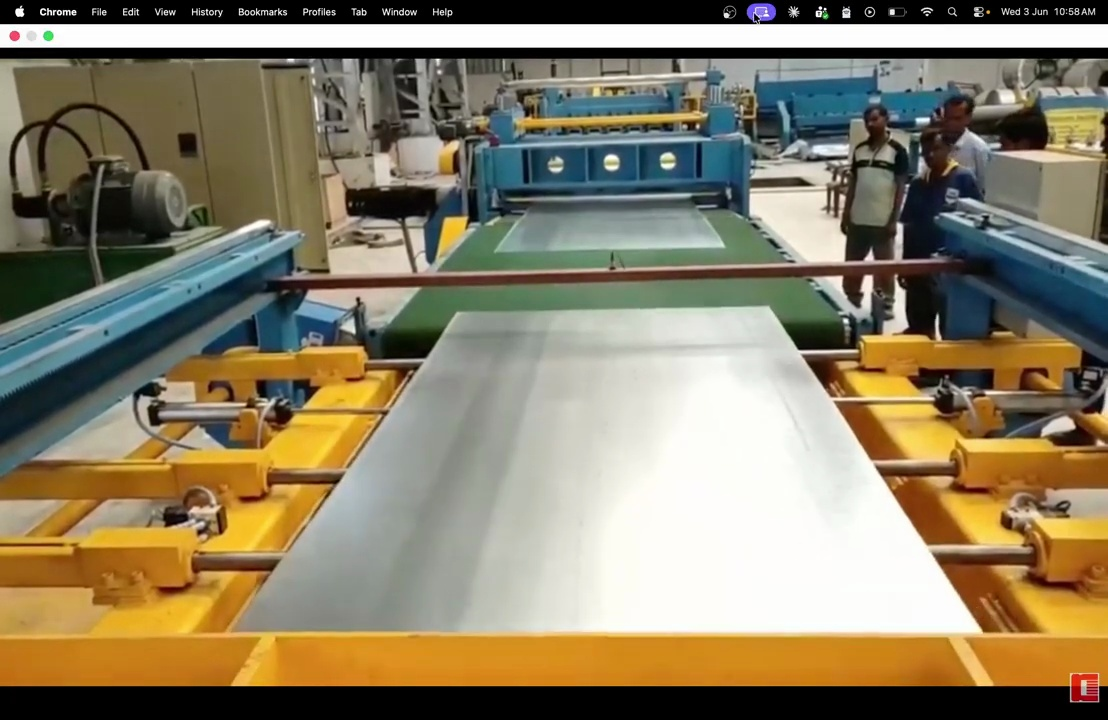steel plate: (237, 308, 978, 632), (496, 200, 723, 252)
